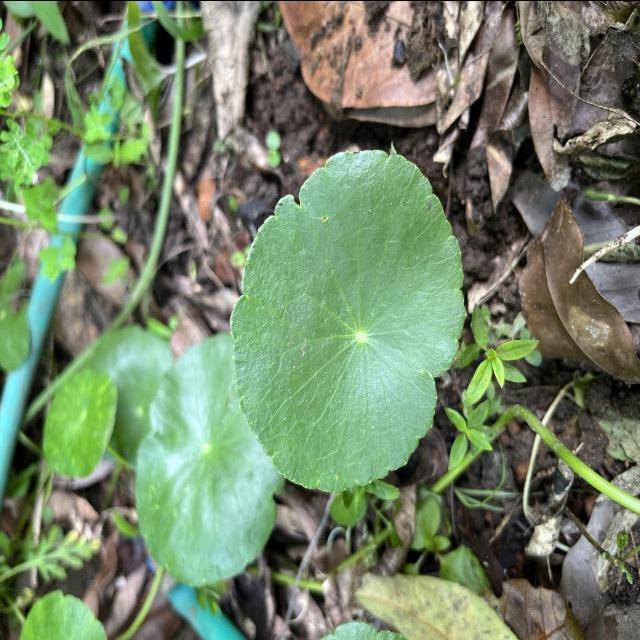Bacopa monnieri: (228, 143, 469, 496)
